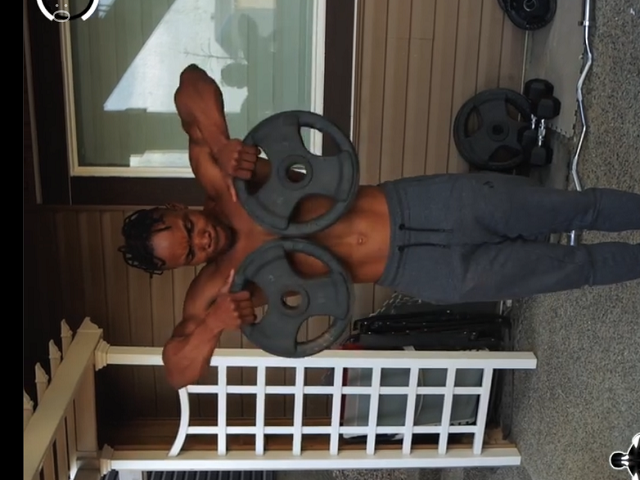weights: (232, 108, 363, 235), (229, 238, 357, 360)
